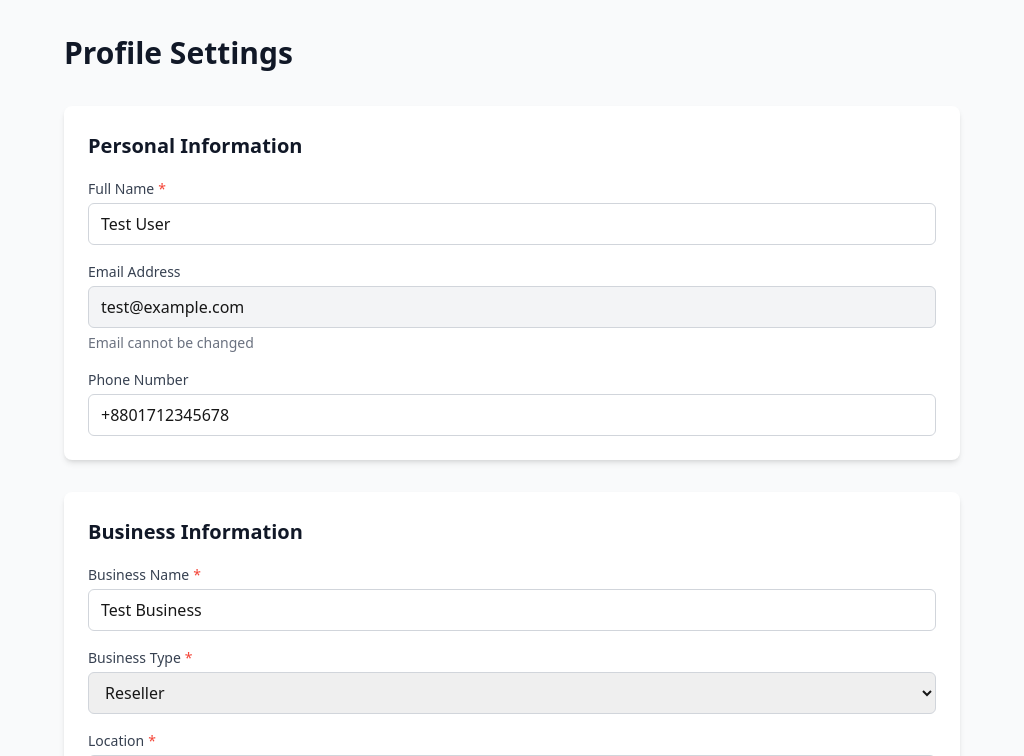
it: ProfileSettingsPage › Loading states › should disable submit button while updating
This screenshot has width=1024, height=756.
Replace the text in the field showing "Test User" with "Updated Name" at (512, 224), box x1=88 y1=203 x2=936 y2=245
(page scrolled)
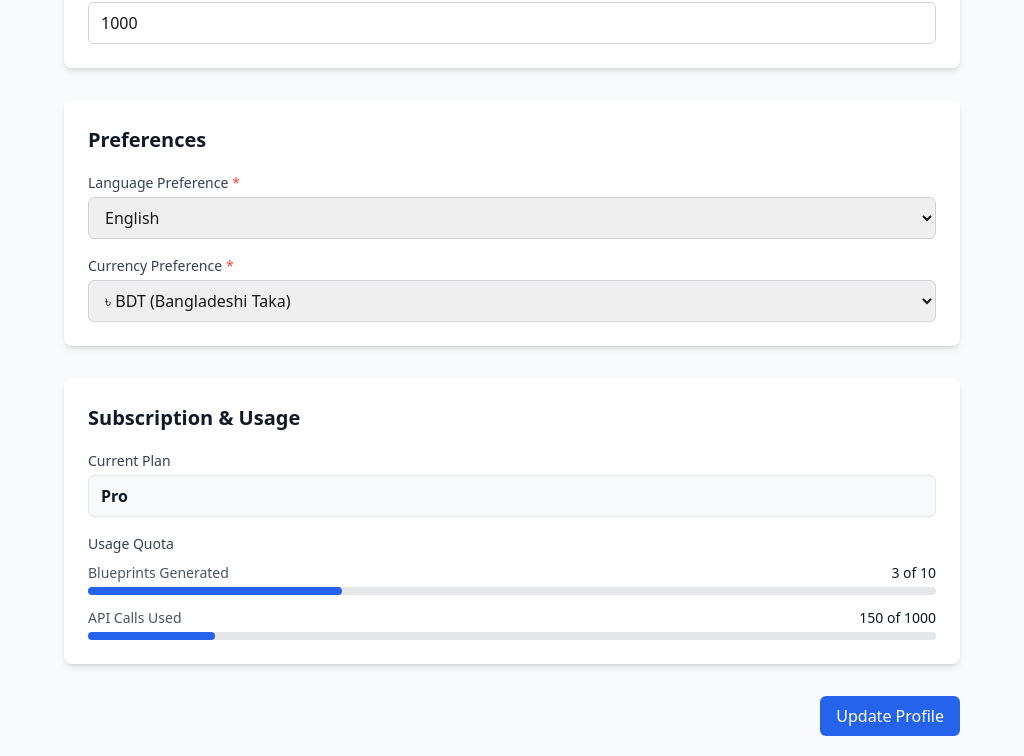
Click the button "Update Profile" at (890, 716), box x1=820 y1=696 x2=960 y2=736
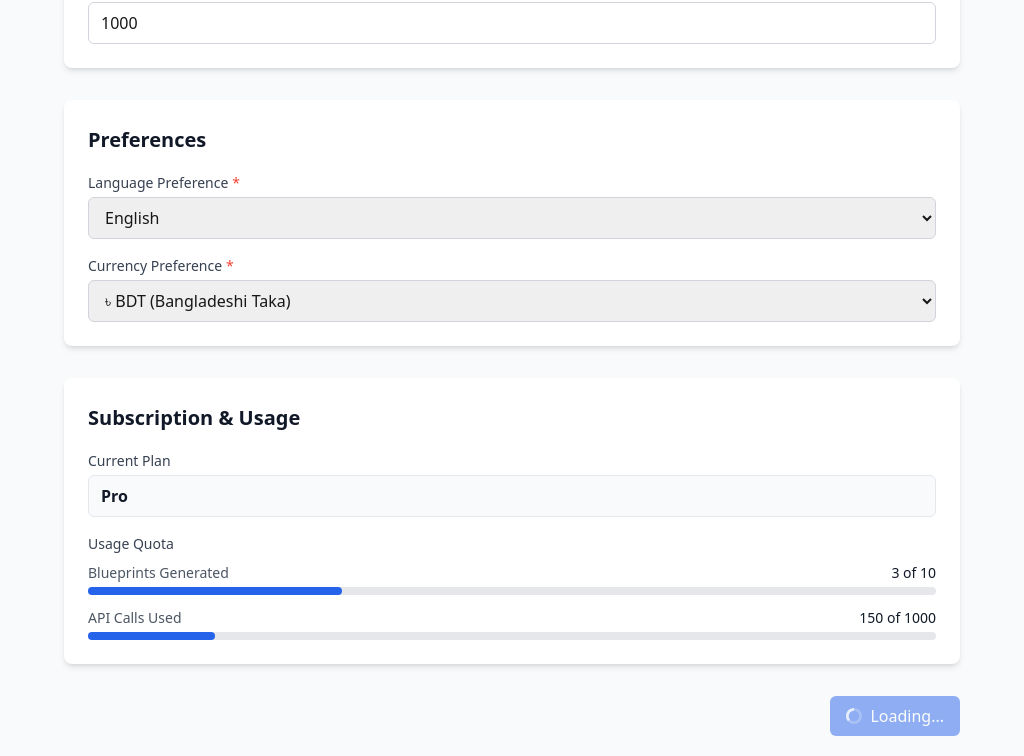
Expected: the button named "Update Profile" is disabled, x1=830 y1=696 x2=960 y2=736
